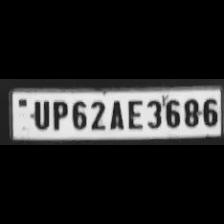2: (88, 97, 106, 130)
3: (144, 97, 162, 129)
6: (67, 97, 87, 130), (199, 95, 219, 127), (162, 96, 180, 128)
8: (180, 96, 200, 128)
A: (106, 97, 124, 129)
E: (124, 97, 144, 129)
P: (48, 97, 68, 130)
U: (29, 97, 51, 129)
